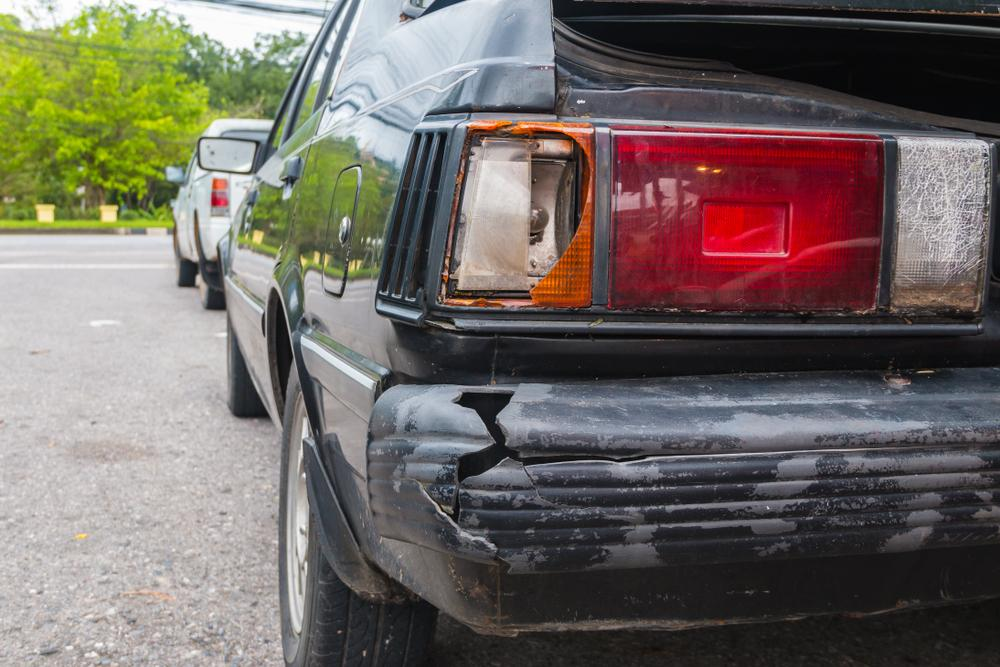crack: (395, 390, 704, 572)
lamp broken: (440, 121, 598, 308)
